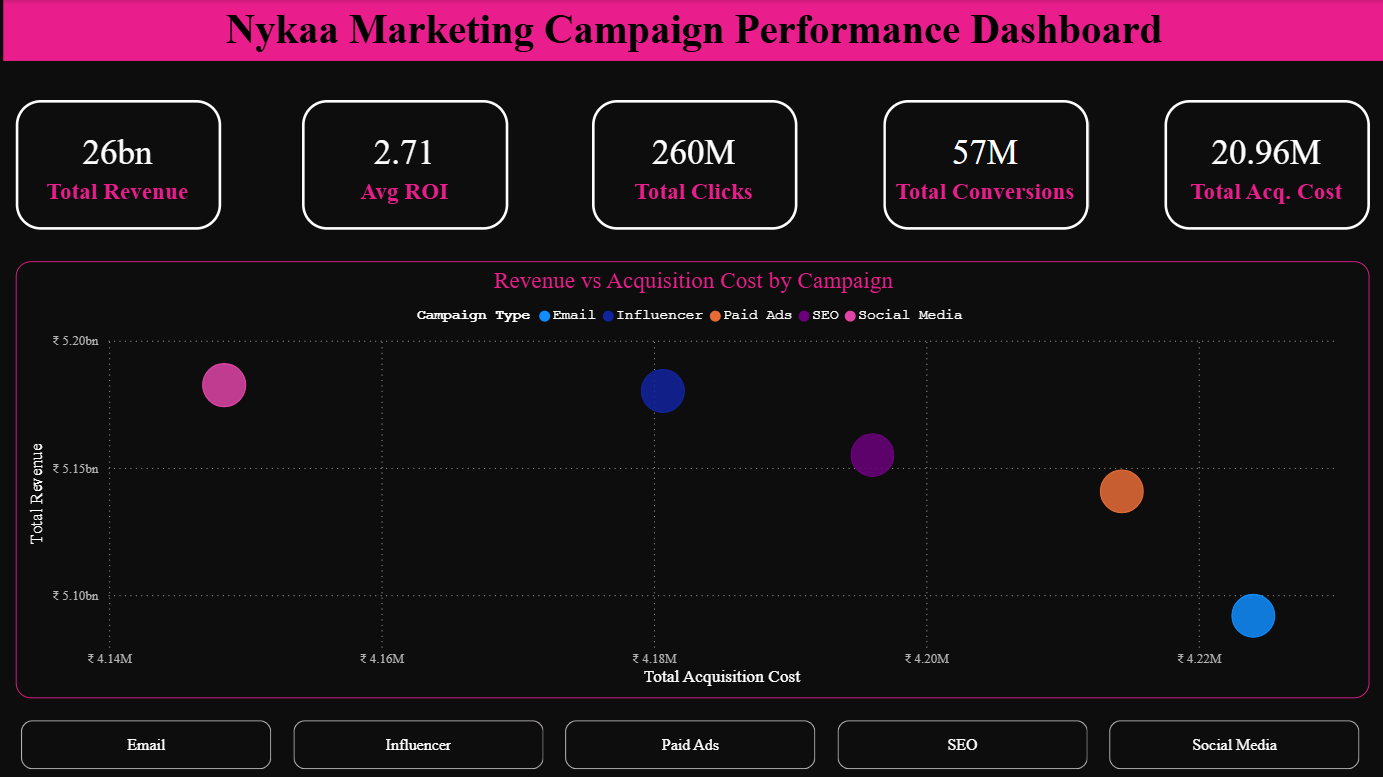

What the dashboard file says about the page in this screenshot:
{"tool":"powerbi","page":{"name":"Performance Dashboard","canvas":[1280,720],"ordinal":0},"visuals":[{"type":"textbox","box":[5.3,0,1269.4,55.8],"z":0},{"type":"card","fields":{"Values":["Sum(nykaa_campaign_data.Revenue)"]},"box":[17.2,92.4,188.5,119.5],"z":1000},{"type":"card","fields":{"Values":["Avg(nykaa_campaign_data.ROI)"]},"box":[280.8,92.4,189.7,119.5],"z":2000},{"type":"card","fields":{"Values":["Sum(nykaa_campaign_data.Clicks)"]},"box":[546.9,92.4,188.5,119.5],"z":3000},{"type":"card","fields":{"Values":["Sum(nykaa_campaign_data.Conversions)"]},"box":[814.2,92.4,188.5,119.5],"z":4000},{"type":"card","fields":{"Values":["Sum(nykaa_campaign_data.Acquisition_Cost)"]},"box":[1072.8,92.4,188.5,119.5],"z":5000},{"type":"scatterChart","title":"Revenue vs Acquisition Cost by Campaign","fields":{"X":["Sum(nykaa_campaign_data.Acquisition_Cost)"],"Y":["Sum(nykaa_campaign_data.Revenue)"],"Series":["nykaa_campaign_data.Campaign_Type"],"Size":["Sum(nykaa_campaign_data.Conversions)"]},"box":[17.2,240.2,1244,401.5],"z":6500},{"type":"advancedSlicerVisual","title":"Campaign Type","fields":{"Values":["nykaa_campaign_data.Campaign_Type"]},"box":[17.2,656.5,1244,55.4],"z":7000}]}

Visuals, with their boxes in screenshot pixels (x1, y1, x2, y2), scaled from the page's 1280x720 canvas onto the 1383x777 screenshot:
textbox: <bbox>6, 0, 1377, 60</bbox>
card - Sum(nykaa_campaign_data.Revenue): <bbox>19, 100, 222, 229</bbox>
card - Avg(nykaa_campaign_data.ROI): <bbox>303, 100, 508, 229</bbox>
card - Sum(nykaa_campaign_data.Clicks): <bbox>591, 100, 795, 229</bbox>
card - Sum(nykaa_campaign_data.Conversions): <bbox>880, 100, 1083, 229</bbox>
card - Sum(nykaa_campaign_data.Acquisition_Cost): <bbox>1159, 100, 1363, 229</bbox>
"Revenue vs Acquisition Cost by Campaign" scatterChart: <bbox>19, 259, 1363, 693</bbox>
"Campaign Type" advancedSlicerVisual: <bbox>19, 708, 1363, 768</bbox>
